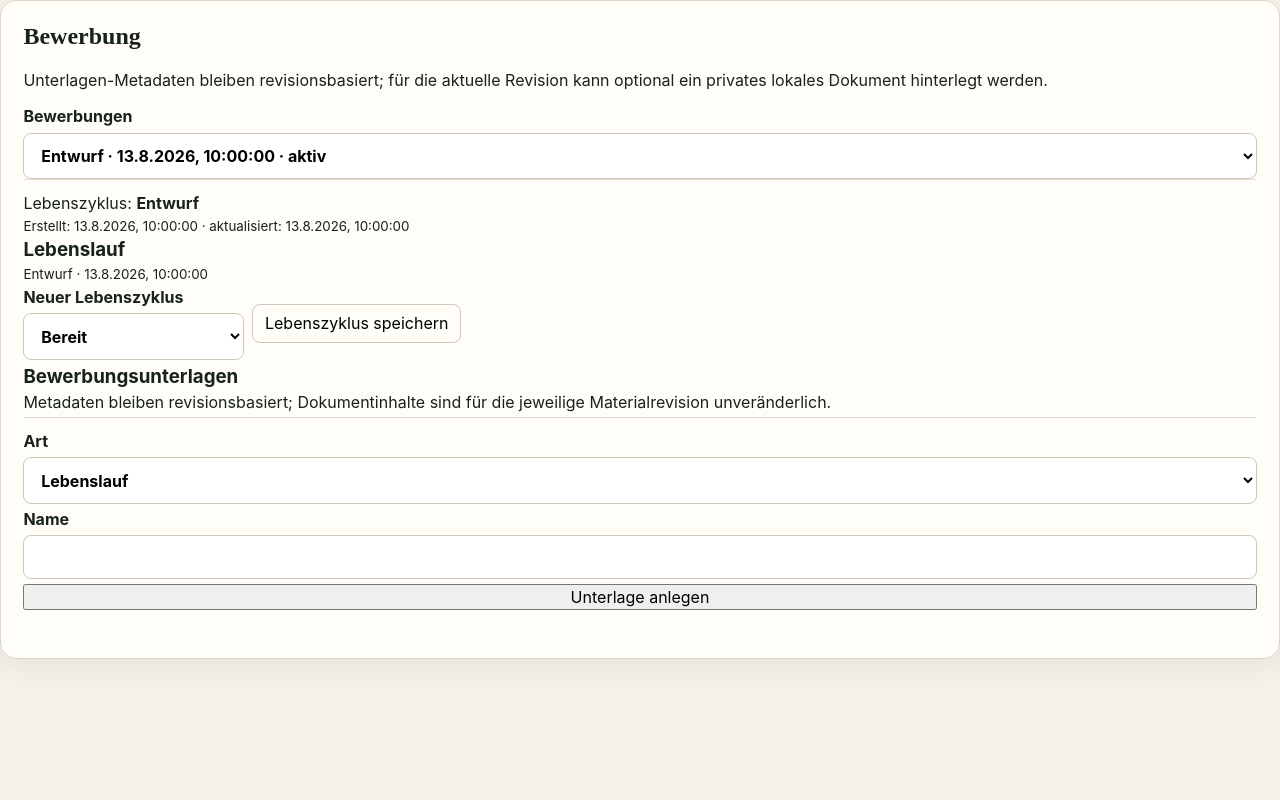
Test: ApplicationCasePanel › changes an active lifecycle and refreshes the case
Select "Bereit" in the dropdown named "Neuer Bewerbungsstatus" at x=134, y=337, box [23,313,244,360]
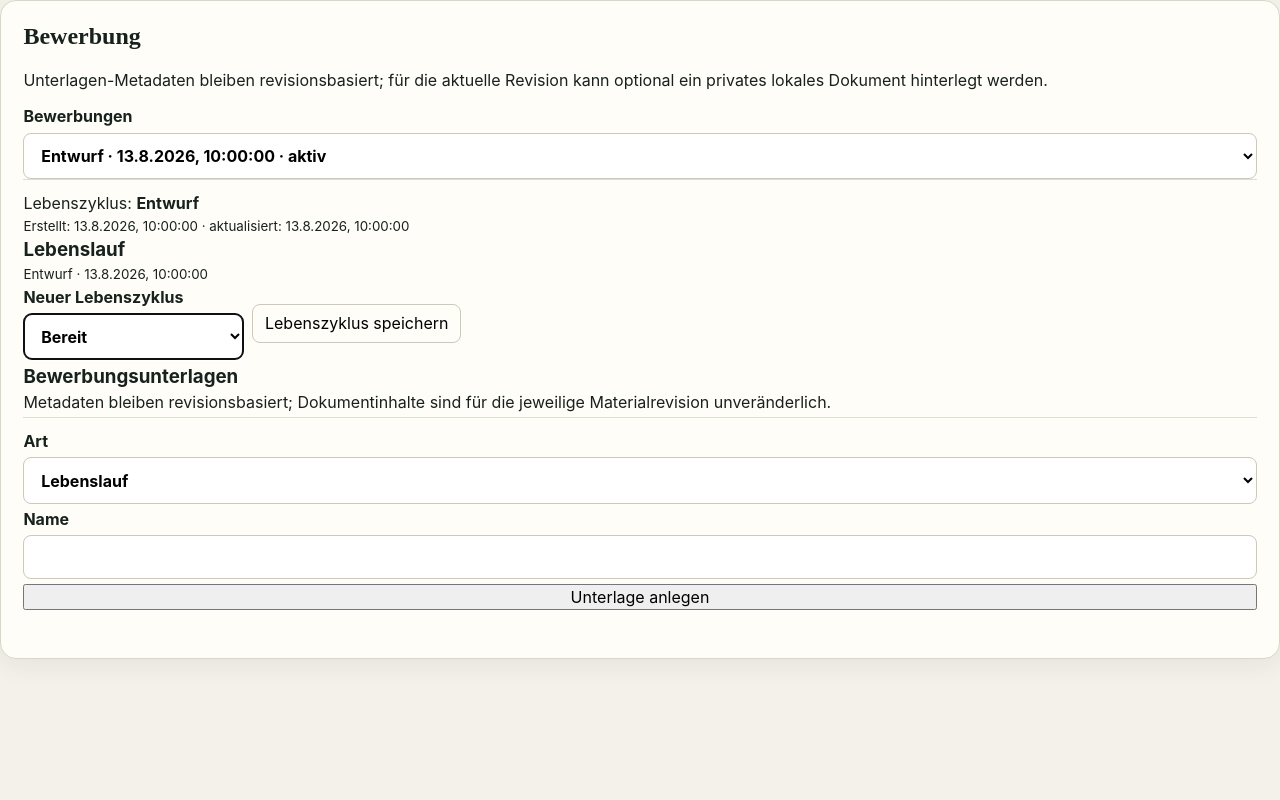
Click the button "Lebenszyklus speichern" at x=357, y=323, box [252,304,462,343]
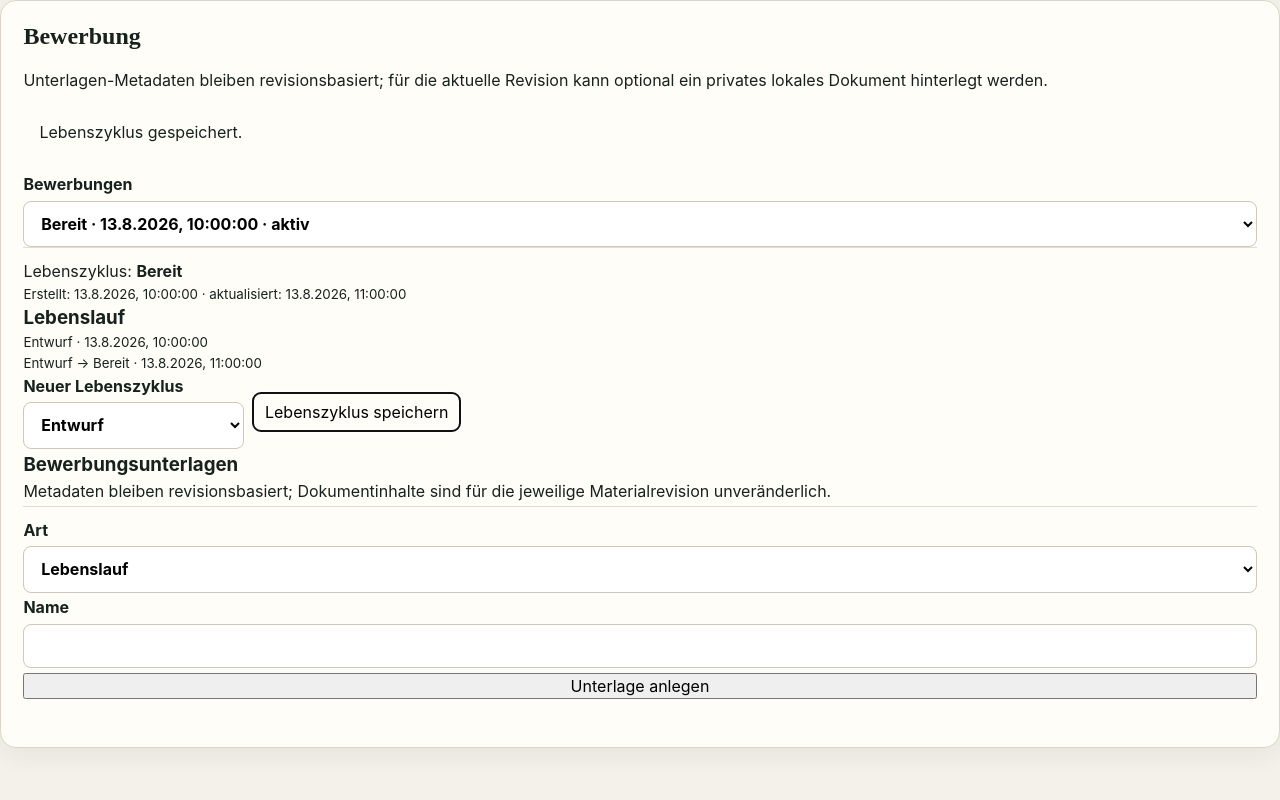
Expected: the text "Lebenszyklus gespeichert." is shown, [39,122,242,142]
